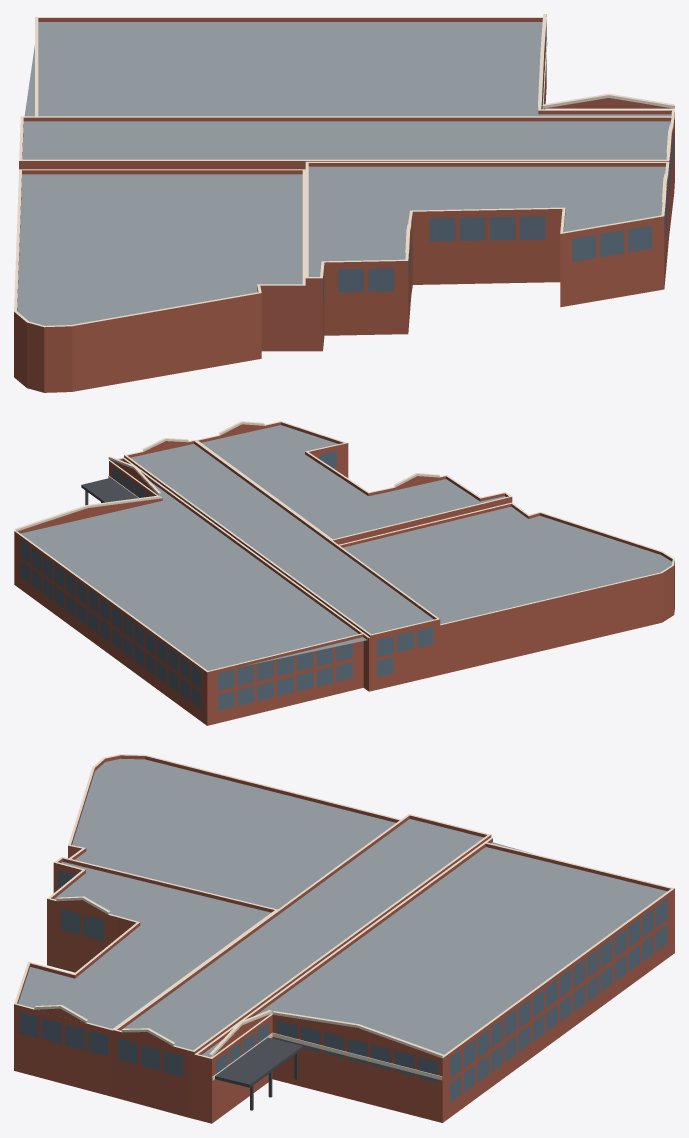
Rendered from detail.glb.
3 views of the same model, one above another, from view 1: azimuth 30°, elevation 25°; view 2: azimuth 150°, elevation 25°; view 3: azimuth 270°, elevation 25° (orthographic). The views are drawn at different scales.
Parts seen in each view (by area): view 1: plaza-building; view 2: plaza-building; view 3: plaza-building.
Part boxes in pixels (x1,y1,x2,y2): plaza-building: (14, 14, 674, 392); plaza-building: (14, 421, 674, 725); plaza-building: (14, 754, 674, 1123).
Size of the model in its own units: 109 by 12.7 by 96.3.
